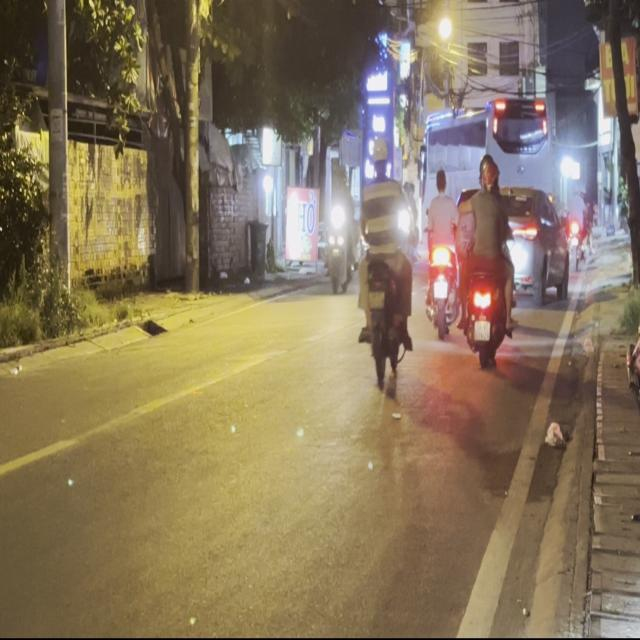helmet: (370, 137, 392, 178), (478, 152, 500, 191)
licenseplate: (352, 133, 417, 389), (457, 149, 519, 370)
nohelmet: (474, 321, 491, 342), (368, 291, 384, 309)
